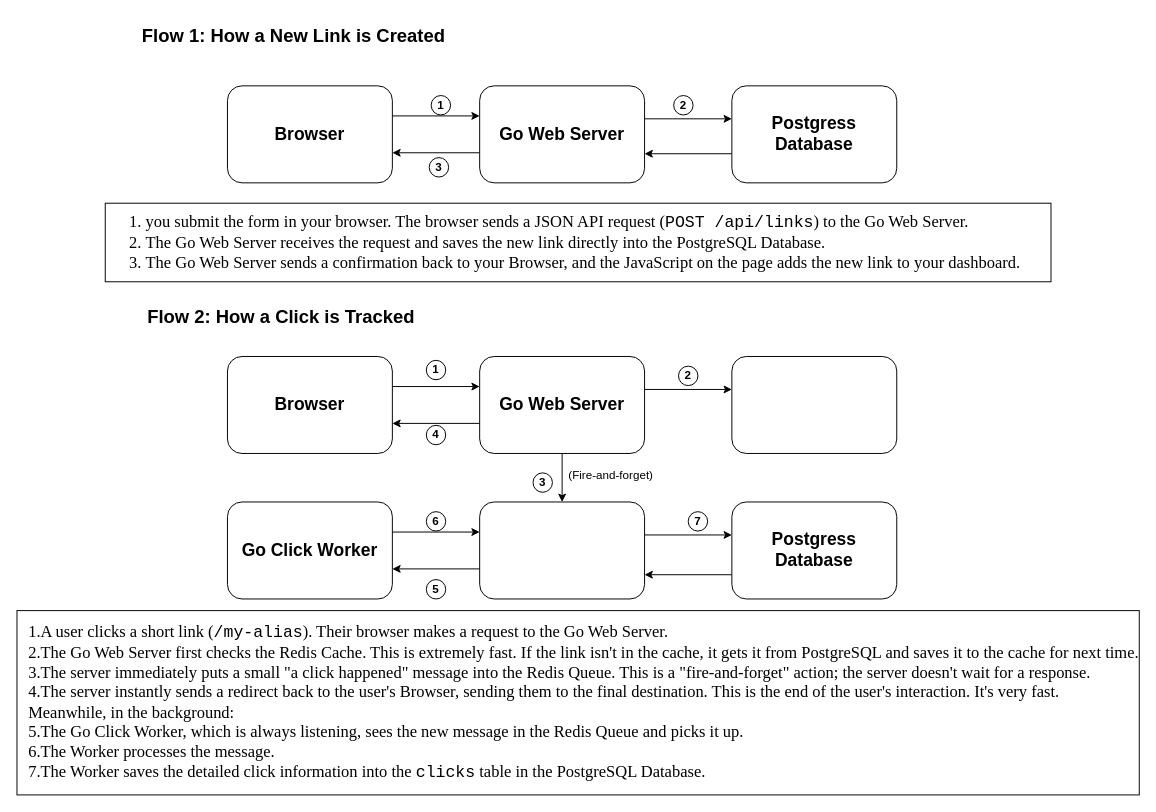
Some shapes in this 1156 by 812 pixel diagram are drawn without their labels. Here are the shapes that lost their labels. From the top down, the box of each, then its label:
(731, 356, 897, 453): Redis Cache
(479, 501, 645, 599): Redis Queue
